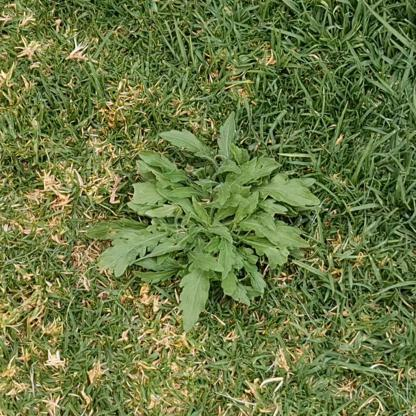Weeds: (86, 112, 321, 332)
